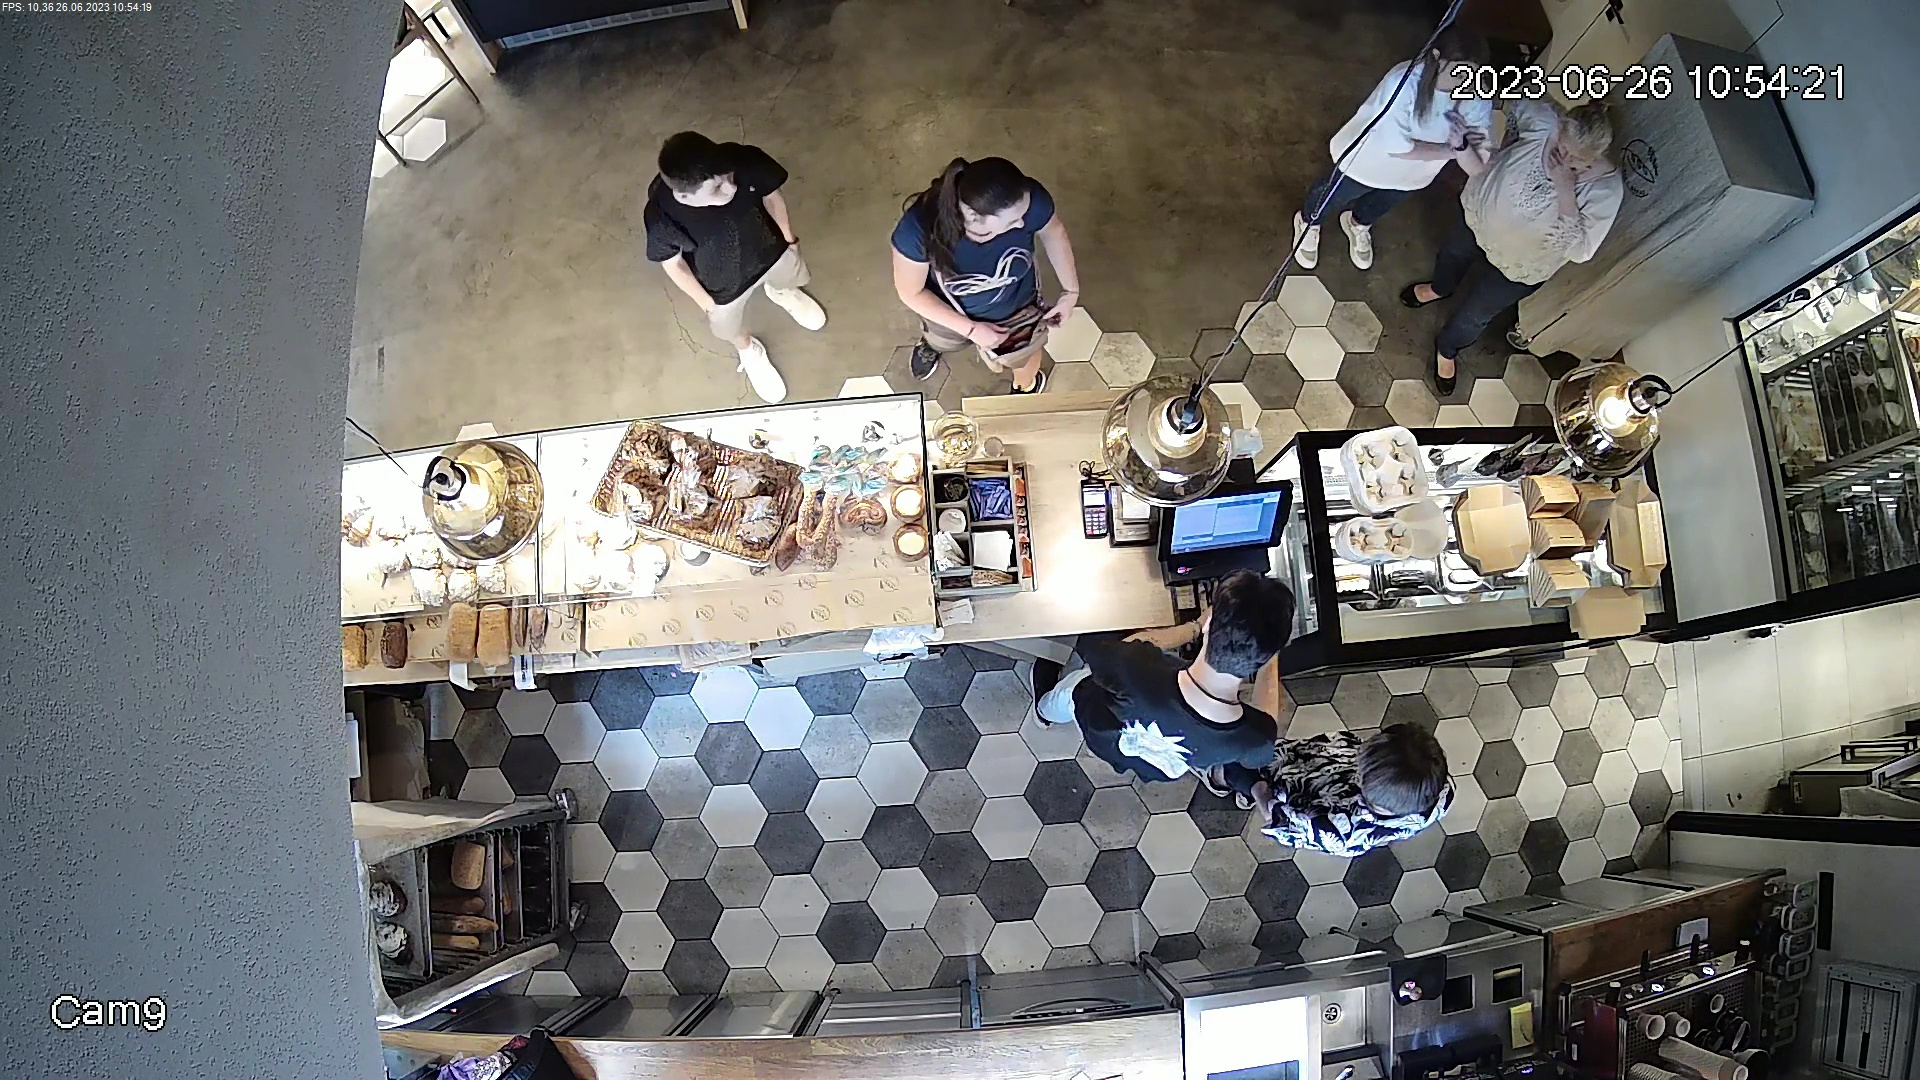openedcash: (1160, 479, 1294, 674)
person: (859, 141, 1090, 397)
